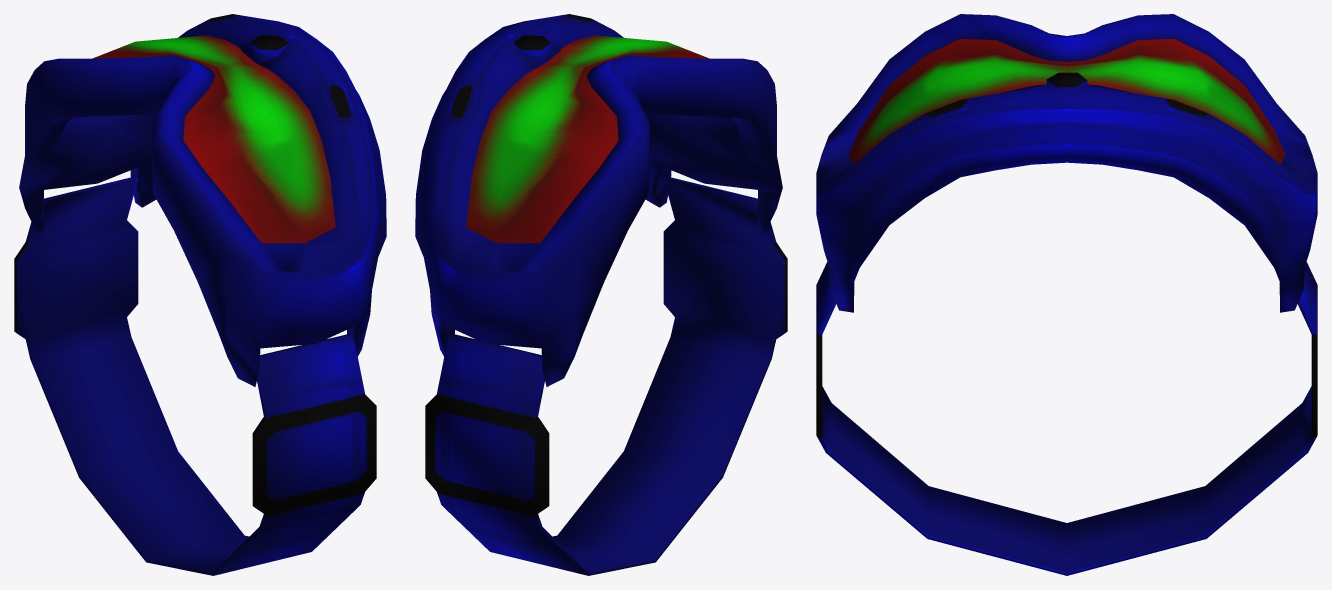
The picture shows the model from 3 angles, left to right: view 1: azimuth 30°, elevation 25°; view 2: azimuth 150°, elevation 25°; view 3: azimuth 270°, elevation 25°; orthographic projection. The views are drawn at different scales.
Parts seen in each view (by area): view 1: M1260:0, M1260:1; view 2: M1260:0, M1260:1; view 3: M1260:0, M1260:1.
Boxes of the visible parts, left/top/right/bottom form: M1260:0: left=14, top=14, right=386, bottom=575; M1260:1: left=92, top=35, right=335, bottom=243; M1260:0: left=415, top=14, right=787, bottom=575; M1260:1: left=466, top=35, right=709, bottom=243; M1260:0: left=816, top=14, right=1317, bottom=575; M1260:1: left=848, top=38, right=1285, bottom=164.
Size of the model in its own units: 0.3039 by 0.6231 by 0.554.
